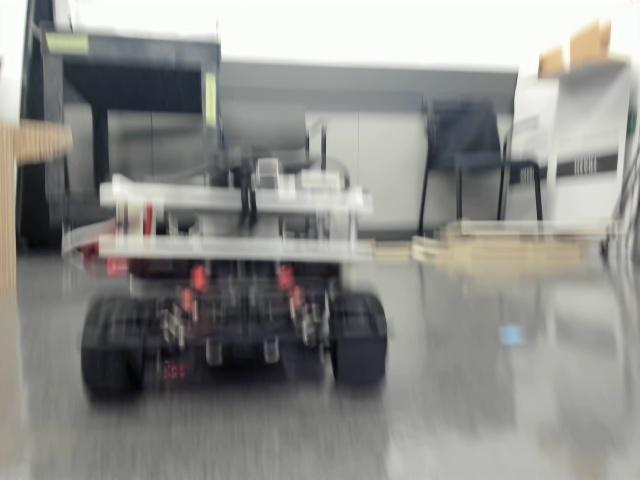Car: (81, 141, 390, 395)
